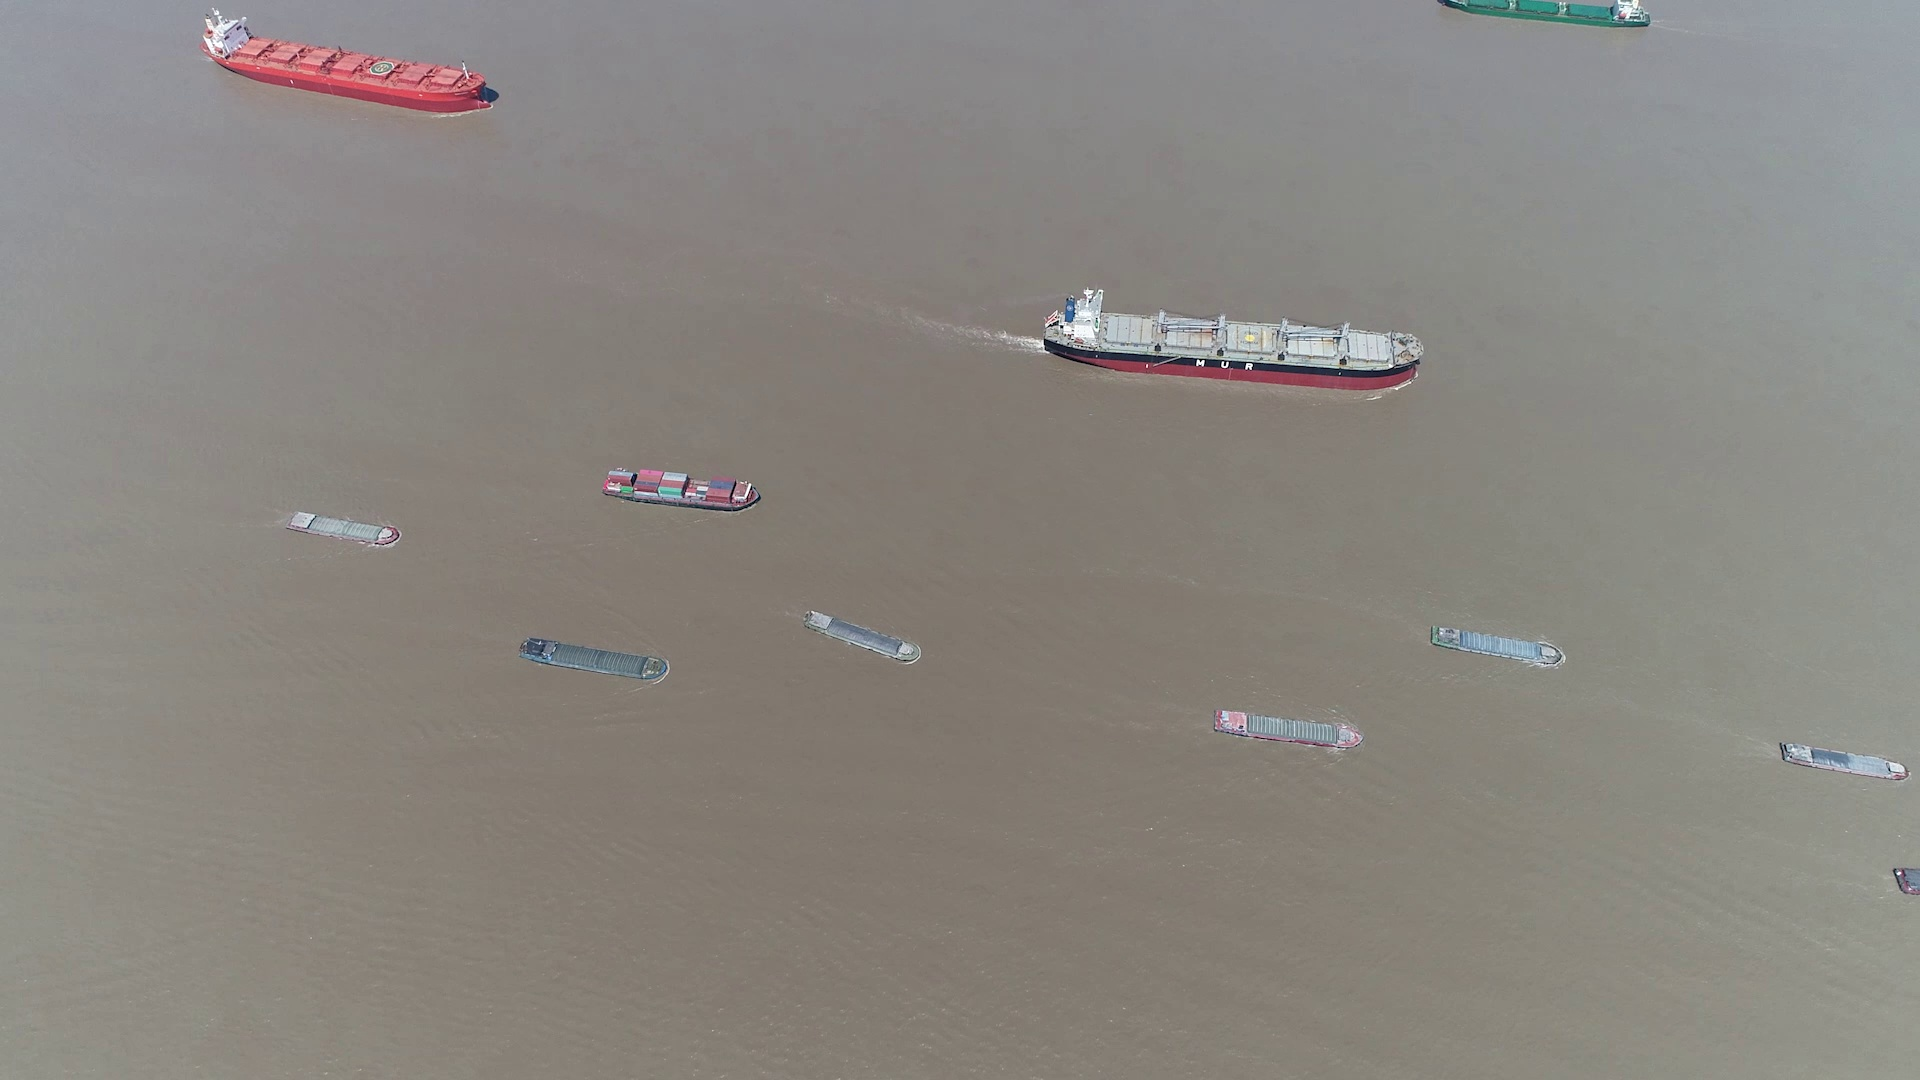ship: (1046, 287, 1423, 392), (200, 11, 495, 112), (603, 468, 760, 512), (804, 609, 923, 666), (521, 637, 671, 680), (1441, 0, 1654, 30), (1212, 709, 1362, 750), (1432, 624, 1567, 667), (1778, 741, 1905, 781), (286, 512, 401, 546), (1892, 869, 1919, 899)
